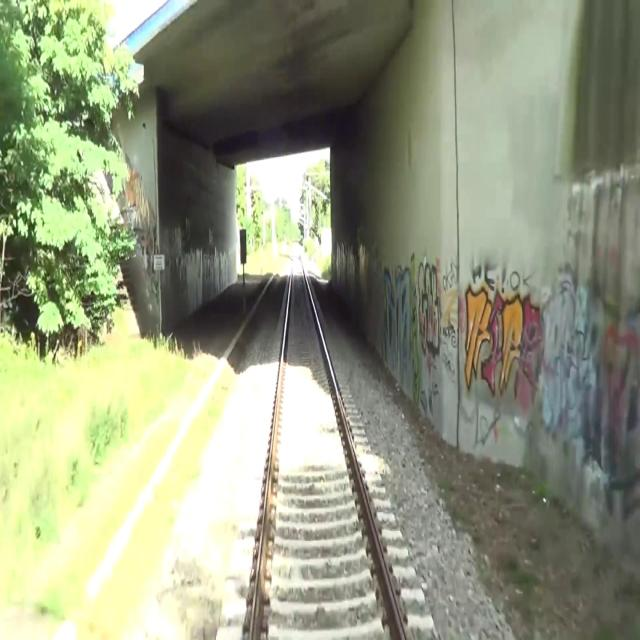rail-track: (255, 255, 402, 639)
